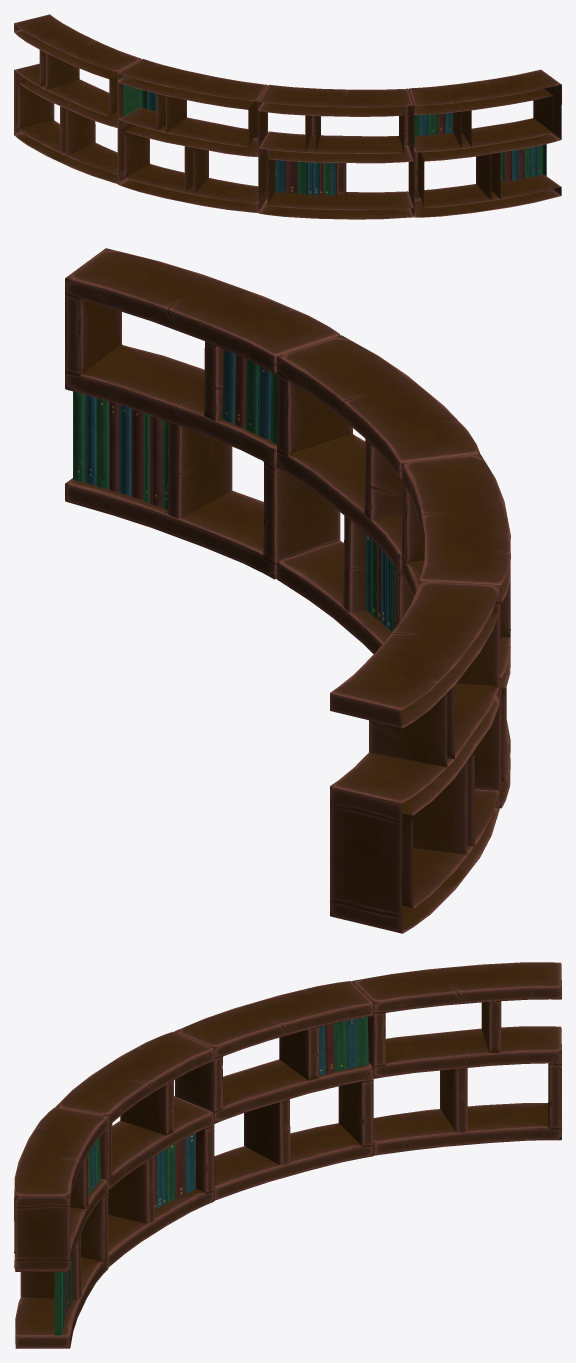
Rendered from SM_BookShelf_03_Empty.fbx.
3 views of the same model, one above another, from view 1: azimuth 30°, elevation 25°; view 2: azimuth 150°, elevation 25°; view 3: azimuth 270°, elevation 25° (orthographic). The views are drawn at different scales.
Visible parts, largest first — view 1: SM_BookShelf_03_Empty_LOD0; view 2: SM_BookShelf_03_Empty_LOD0; view 3: SM_BookShelf_03_Empty_LOD0.
Part boxes in pixels (left/top/right/bottom): SM_BookShelf_03_Empty_LOD0: left=14, top=14, right=561, bottom=219; SM_BookShelf_03_Empty_LOD0: left=65, top=248, right=510, bottom=933; SM_BookShelf_03_Empty_LOD0: left=14, top=962, right=561, bottom=1348.
Size of what is drawn, in the model's own units: 6.2 by 1.9 by 6.15.
